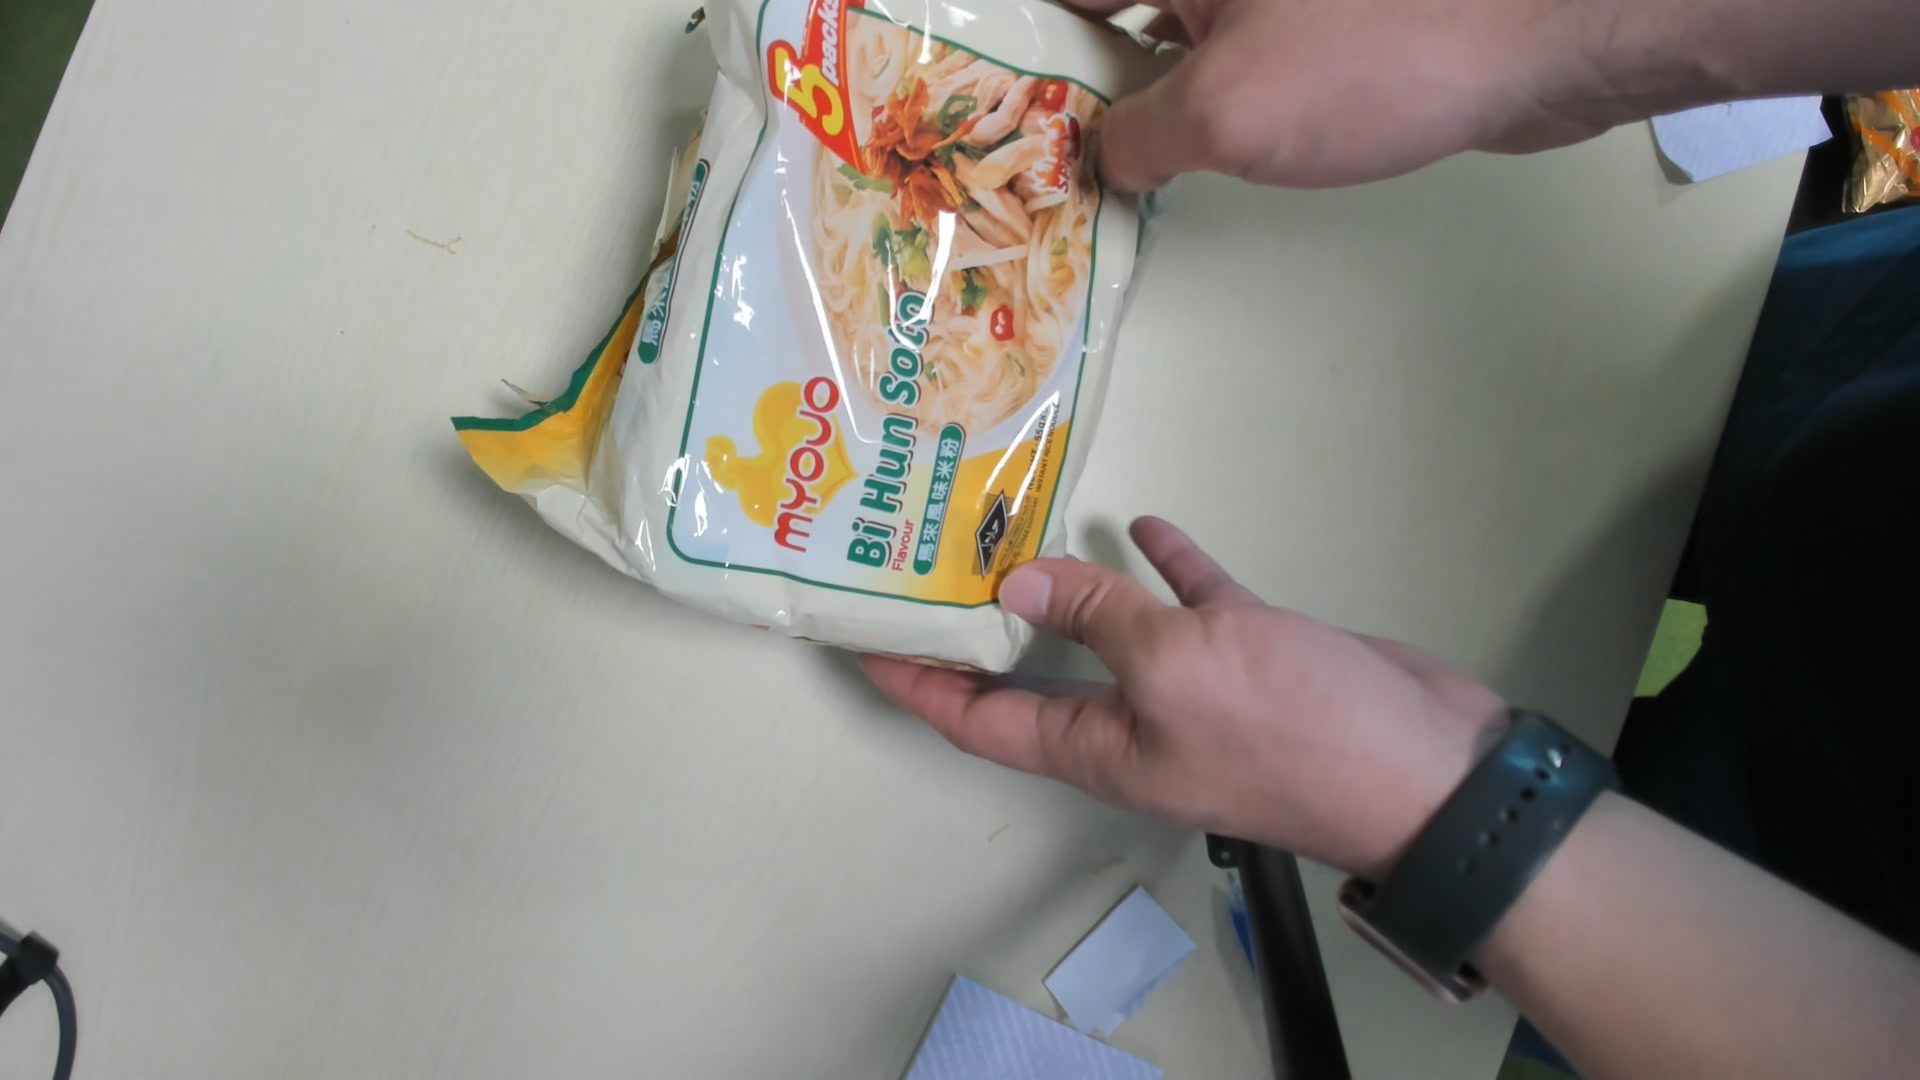OtherNoodles_400-499g_Halal_NonHealthy: (483, 1, 1189, 683)
